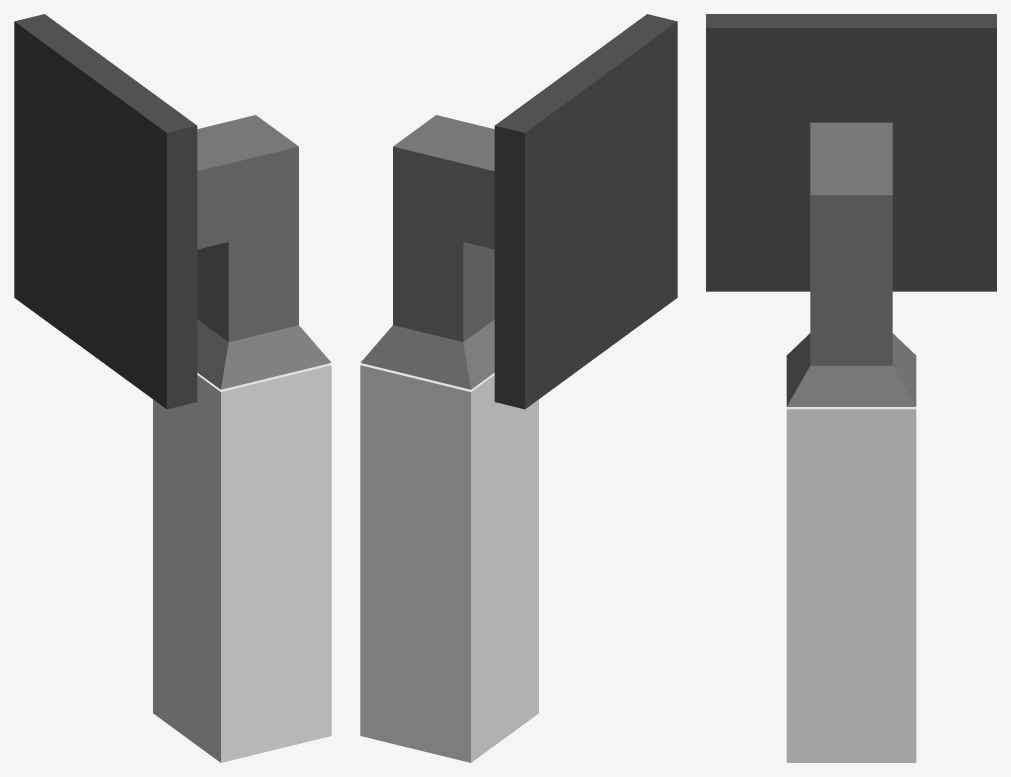
The model's file is Lamp_Hanging.fbx.
3 views of the same model, side by side, from view 1: azimuth 30°, elevation 25°; view 2: azimuth 150°, elevation 25°; view 3: azimuth 270°, elevation 25° (orthographic). The views are drawn at different scales.
Visible parts, largest first — view 1: Cube; view 2: Cube; view 3: Cube.
Boxes of the visible parts, box(x1,y1,x2,y2) form: Cube: box(14, 14, 331, 762); Cube: box(360, 14, 677, 762); Cube: box(706, 14, 996, 762).
Size of the model in its own units: 157 by 495 by 200.
